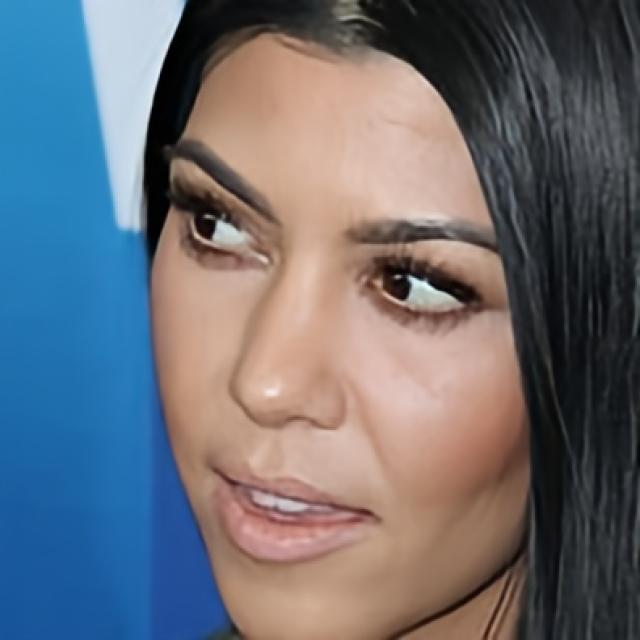surprise: (147, 23, 535, 640)
